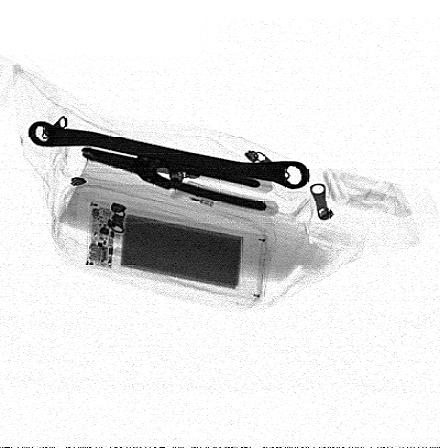Pliers: (82, 148, 269, 211)
Powerbank: (85, 200, 269, 299)
Wrench: (26, 119, 311, 190)
